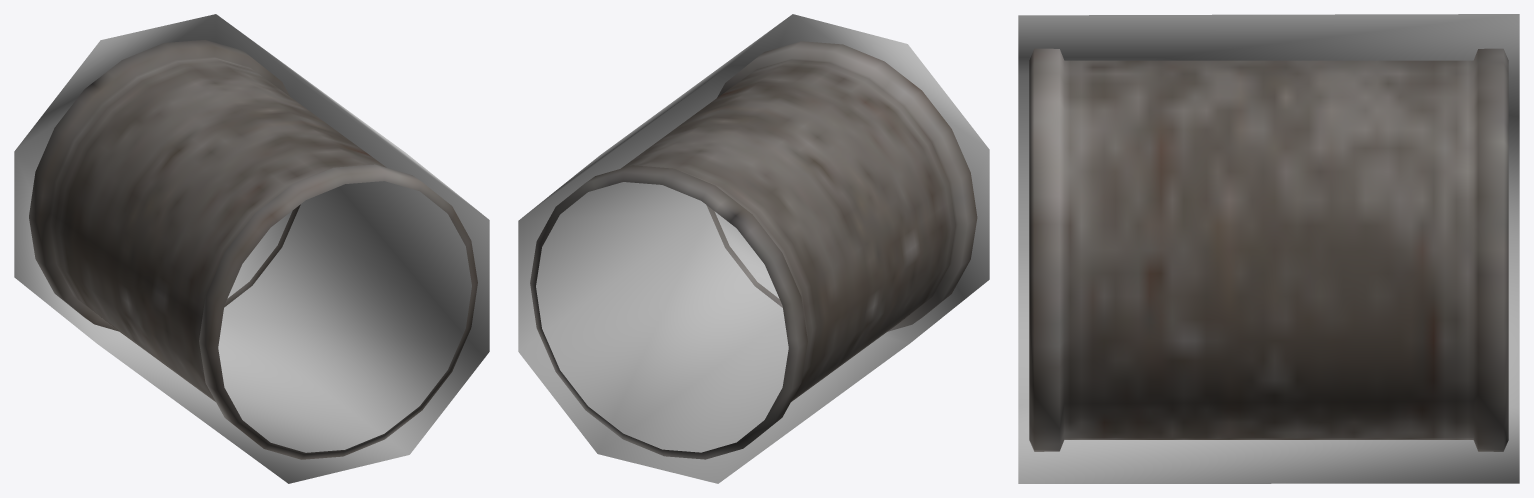
Rendered from SM_Pipesml_Short.gltf.
The picture shows the model from 3 angles, left to right: view 1: azimuth 30°, elevation 25°; view 2: azimuth 150°, elevation 25°; view 3: azimuth 270°, elevation 25°; orthographic projection. The views are drawn at different scales.
Visible parts, largest first — view 1: SM_Pipesml_Short_ConvexHulls, SM_Pipesml_Short_LOD0; view 2: SM_Pipesml_Short_ConvexHulls, SM_Pipesml_Short_LOD0; view 3: SM_Pipesml_Short_LOD0, SM_Pipesml_Short_ConvexHulls.
Part boxes in pixels (x1,y1,x2,y2): SM_Pipesml_Short_ConvexHulls: [14, 14, 489, 483]; SM_Pipesml_Short_LOD0: [29, 40, 477, 459]; SM_Pipesml_Short_ConvexHulls: [518, 14, 989, 483]; SM_Pipesml_Short_LOD0: [530, 41, 977, 459]; SM_Pipesml_Short_LOD0: [1029, 48, 1508, 451]; SM_Pipesml_Short_ConvexHulls: [1018, 14, 1519, 483].
Size of what is drawn, in the model's own units: 0.0384 by 0.0391 by 0.045.
